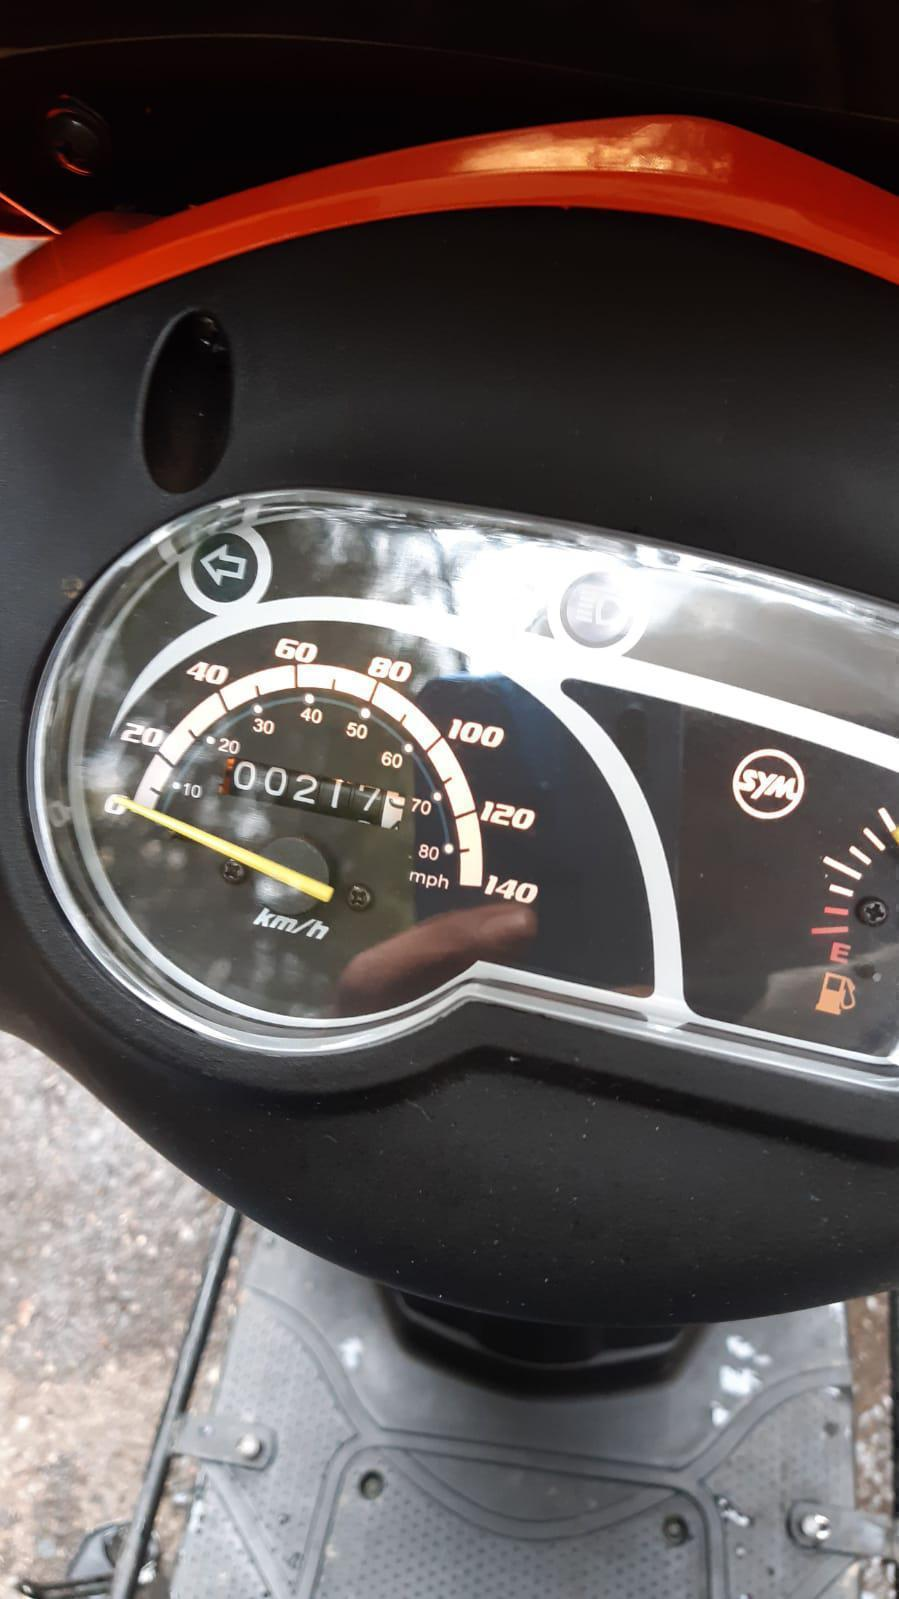0: (263, 765, 286, 797), (233, 760, 256, 791), (392, 752, 403, 769)
1: (329, 778, 342, 809)
2: (292, 773, 317, 805)
3: (387, 787, 407, 813)
6: (380, 750, 392, 767)
7: (358, 783, 381, 812)
odometer: (216, 753, 407, 832)
